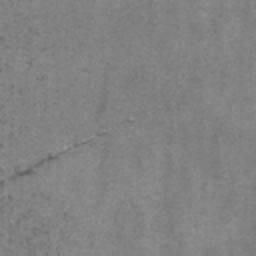Finishing roll printing: (5, 114, 136, 178)
